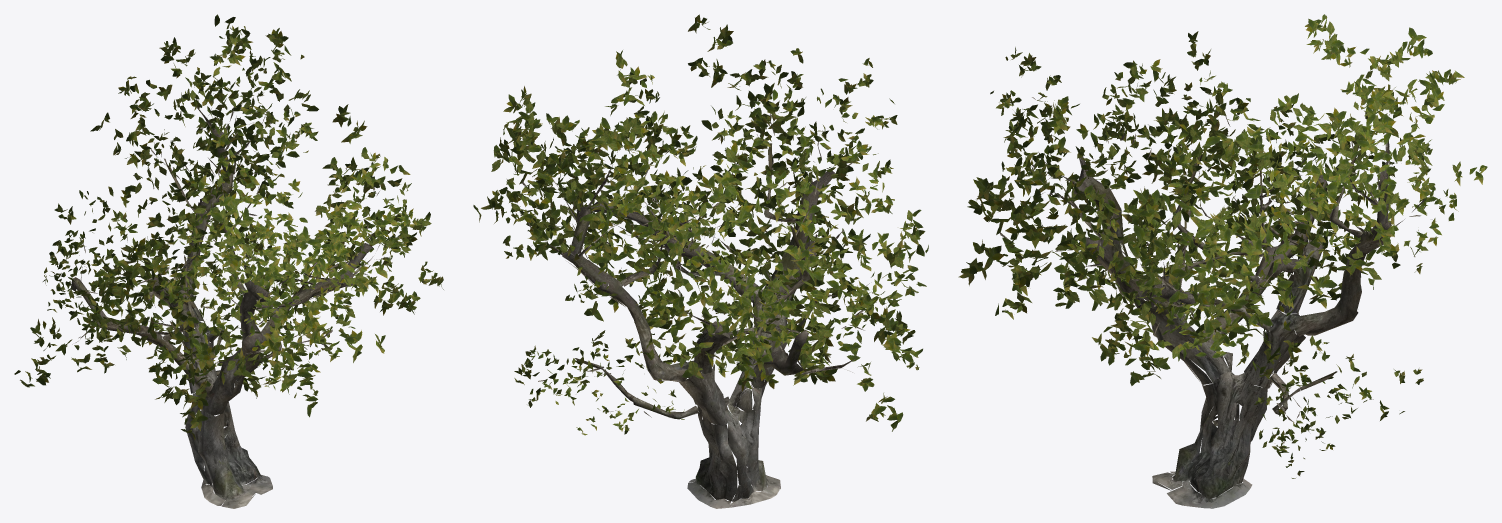
File: veg-tree-shade-a-lod0-13e33a870e1d.glb
3 renders of one model, left to right at view 1: azimuth 30°, elevation 25°; view 2: azimuth 150°, elevation 25°; view 3: azimuth 270°, elevation 25°, orthographic. The views are drawn at different scales.
Parts seen in each view (by area): view 1: veg-tree-shade-a_lod0; view 2: veg-tree-shade-a_lod0; view 3: veg-tree-shade-a_lod0.
Part boxes in pixels (x1,y1,x2,y2): veg-tree-shade-a_lod0: [14, 14, 443, 508]; veg-tree-shade-a_lod0: [473, 14, 928, 508]; veg-tree-shade-a_lod0: [958, 14, 1487, 508].
Size of the model in its own units: 6.39 by 6.8 by 6.44.
3 materials, 3 textured.
